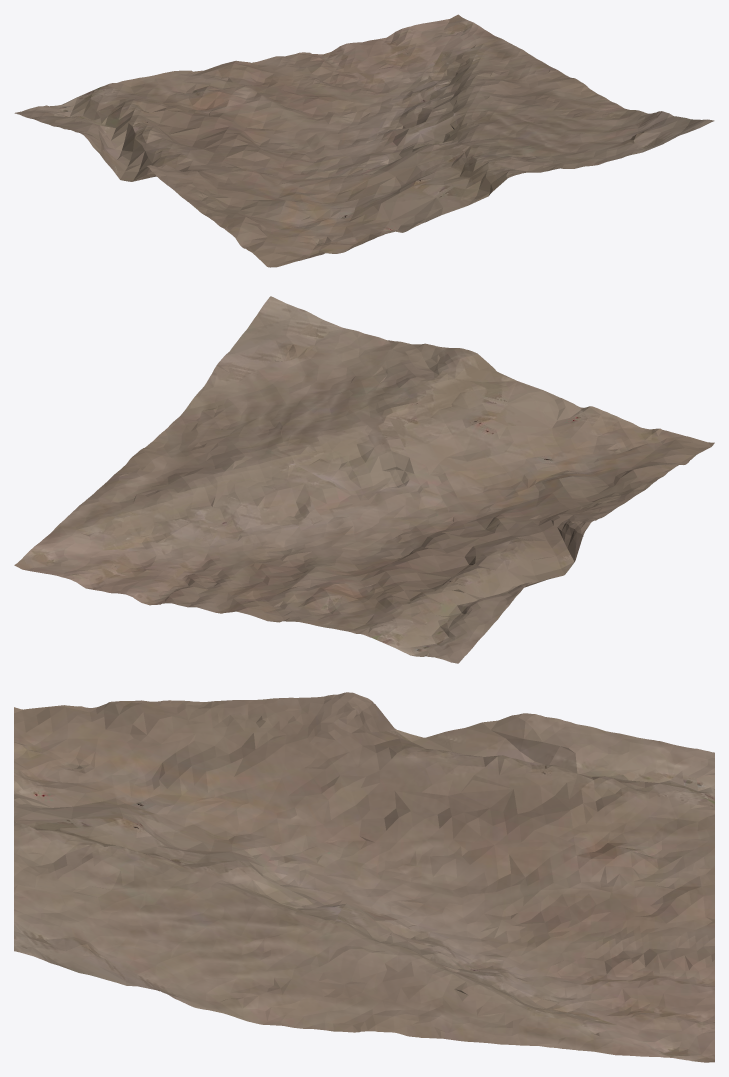
3 renders of one model, top to bottom at view 1: azimuth 30°, elevation 25°; view 2: azimuth 150°, elevation 25°; view 3: azimuth 270°, elevation 25°, orthographic. The views are drawn at different scales.
Bounding box in the file's own units: 1.04 × 0.1983 × 1.04.
Materials: 2 (2 with a texture image).
